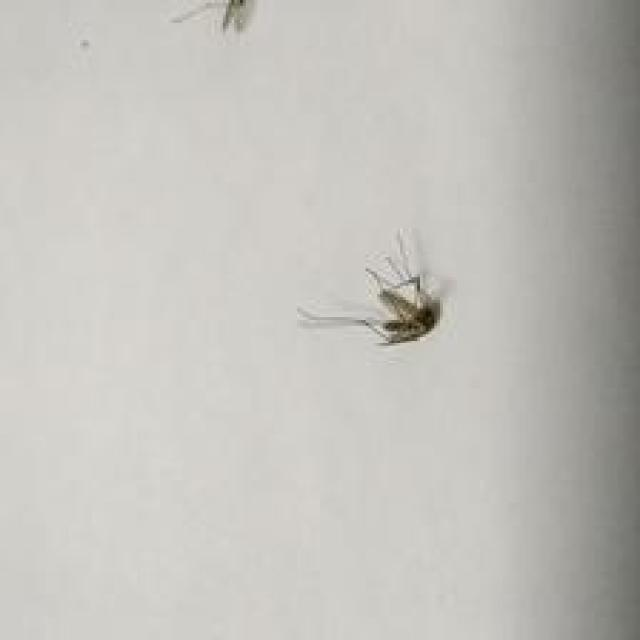Culex: (296, 226, 444, 346)
